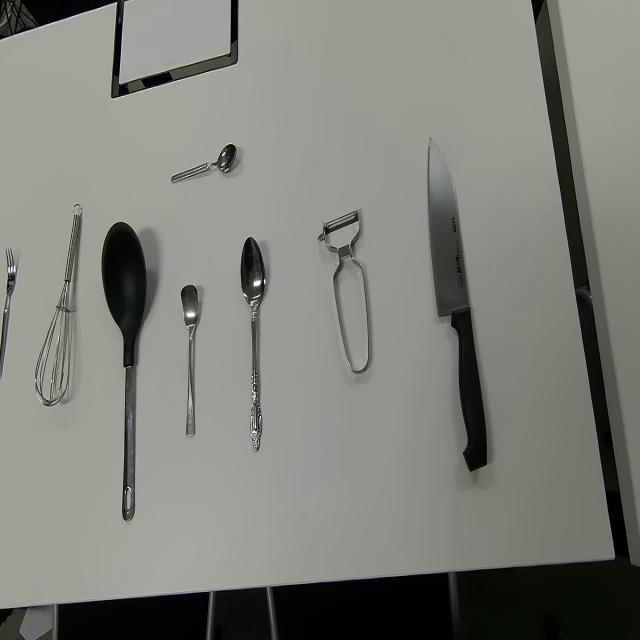Desert-Spoon: (240, 235, 266, 453)
Dinner-Fork: (0, 246, 16, 380)
Kitchen-Knife: (427, 135, 488, 473)
Peeler: (318, 204, 370, 374)
Serving-Spoon: (103, 218, 150, 522)
Tea-Spoon: (179, 284, 199, 438), (170, 142, 238, 184)
Whisk: (34, 202, 83, 405)
